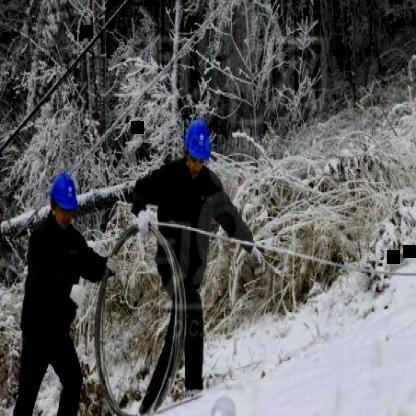helmet: (48, 168, 80, 233), (182, 115, 212, 180)
